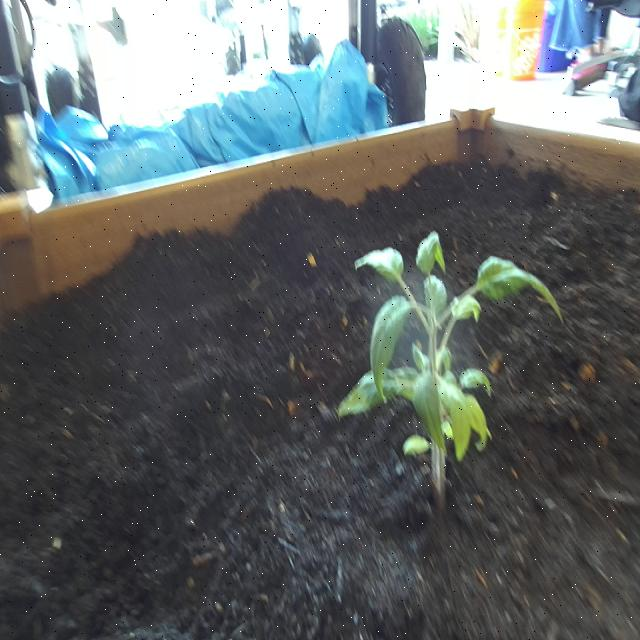Healthy: (334, 228, 566, 526)
